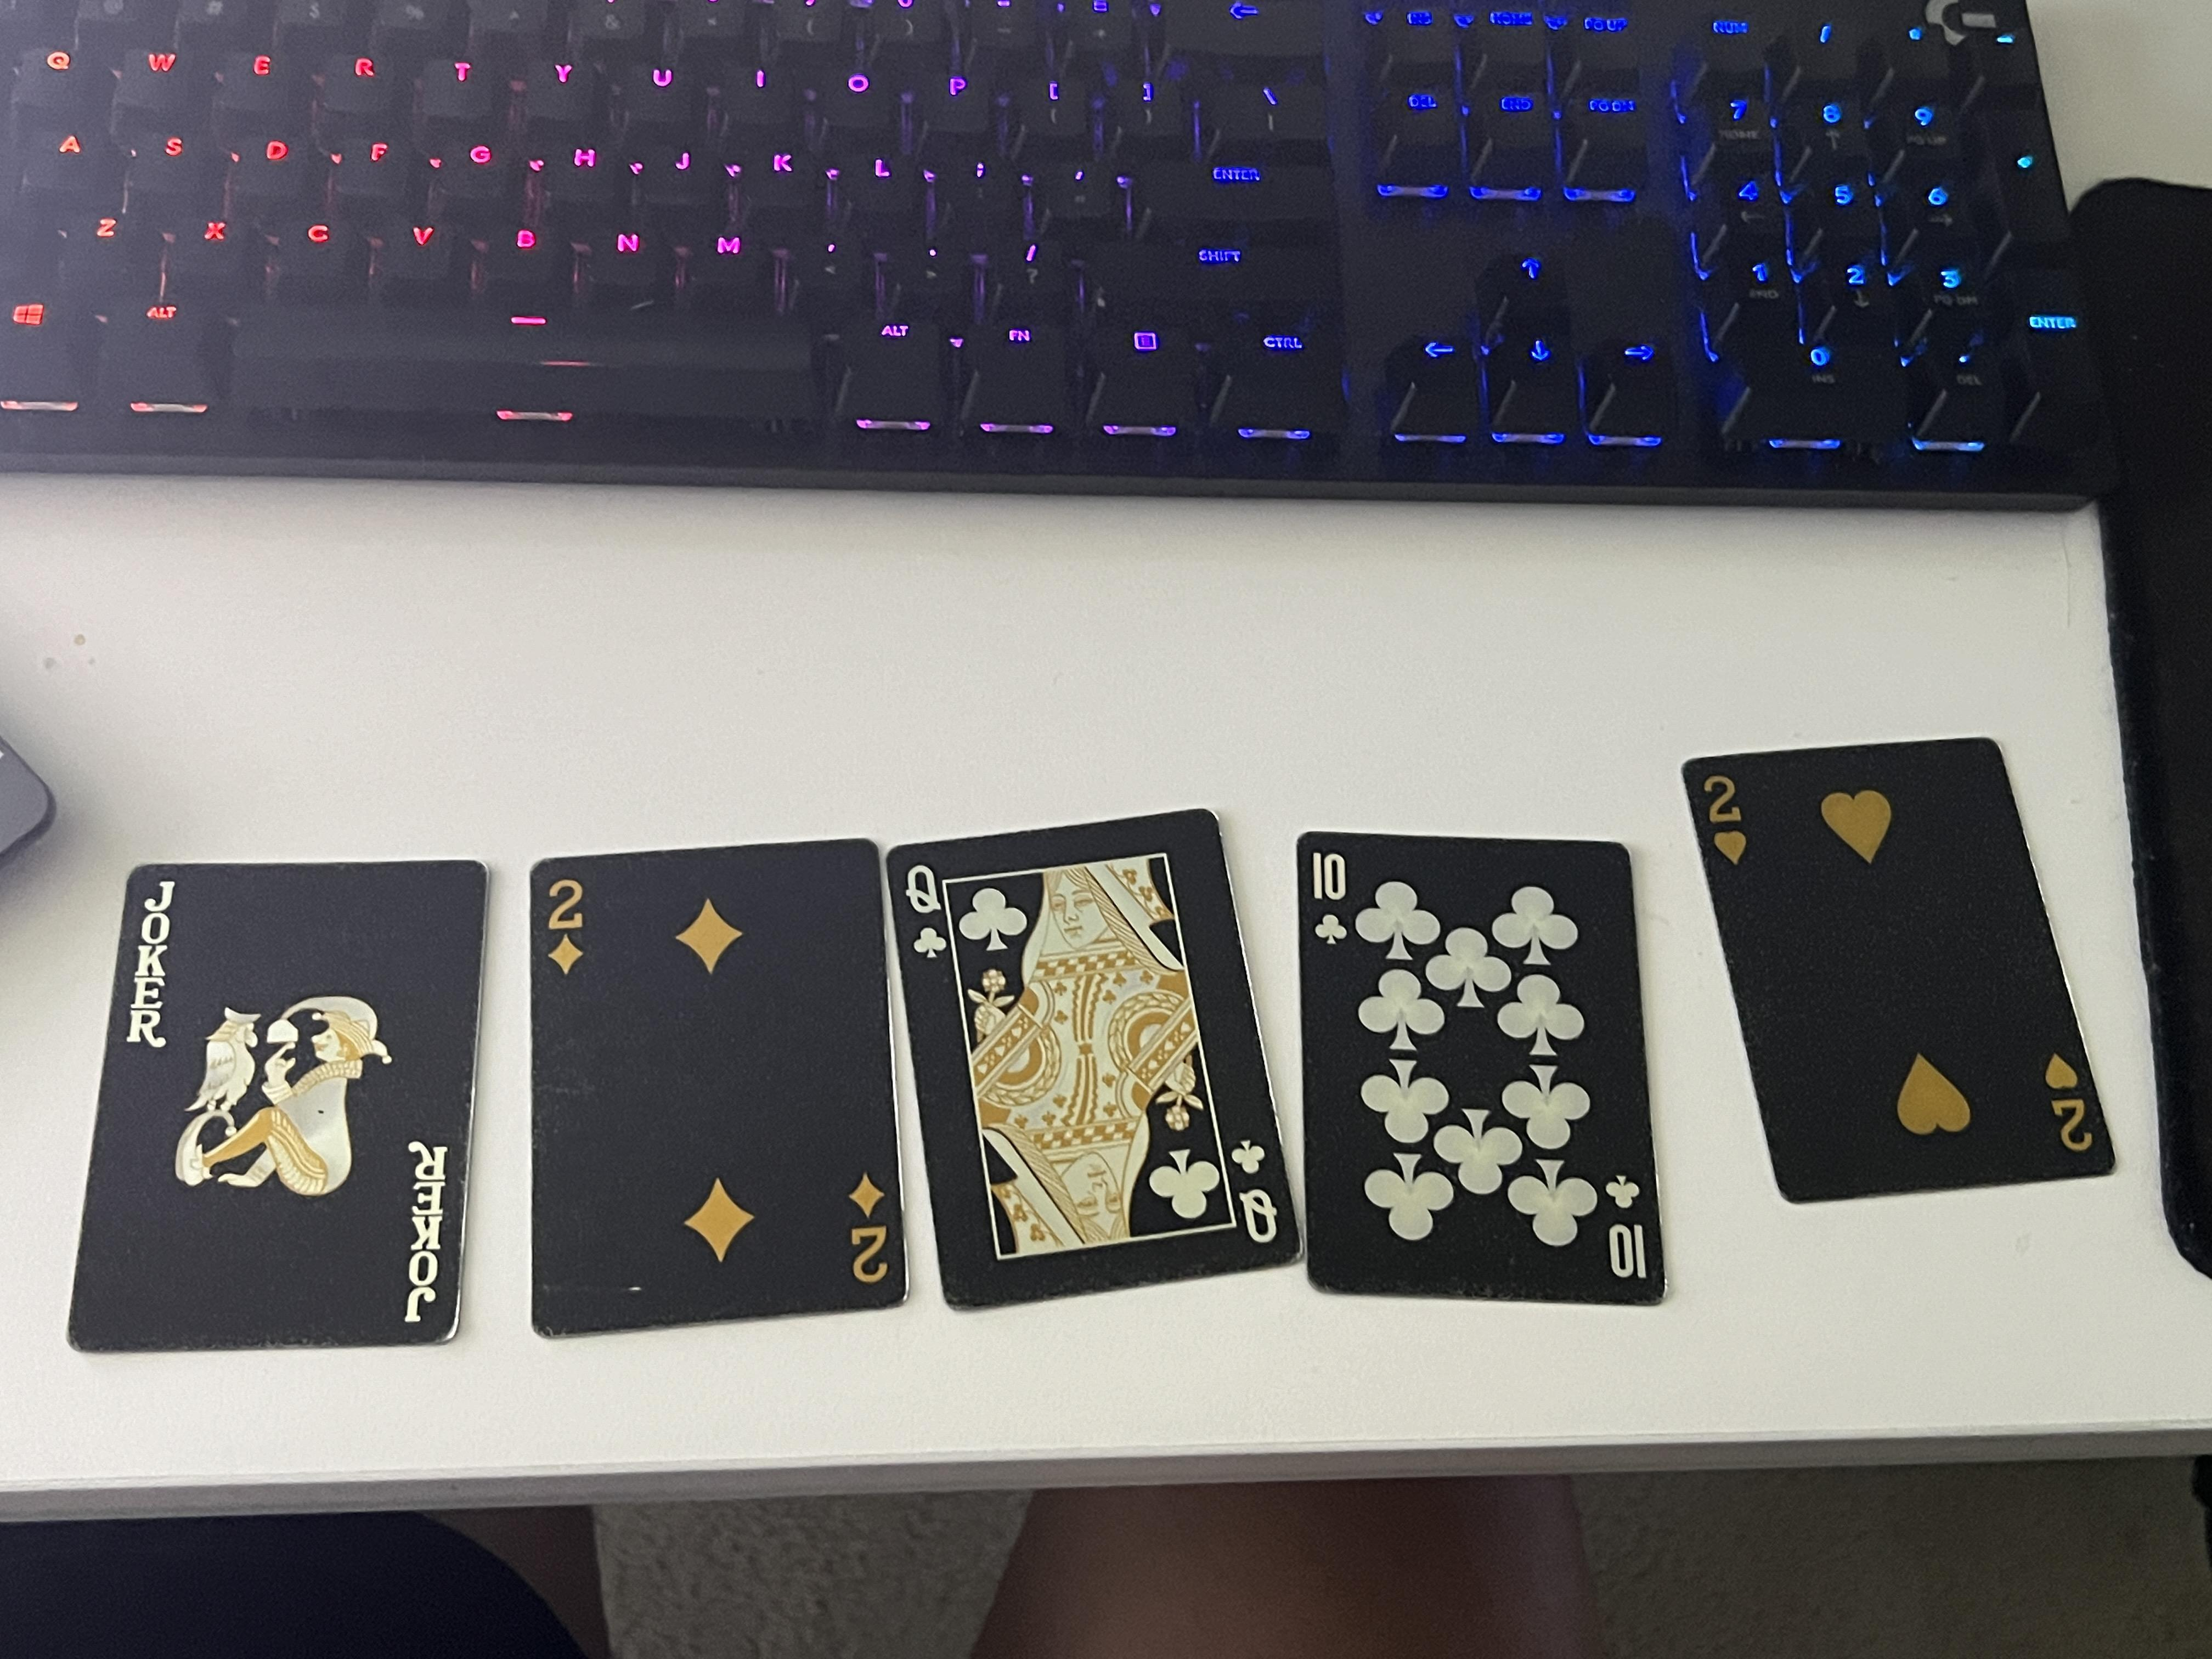10C: (496, 1203, 664, 1239), (950, 976, 1091, 1013)
2D: (876, 406, 1058, 443), (500, 627, 657, 668)
2H: (675, 1525, 816, 1572), (1063, 1271, 1186, 1315)
BLACK JOKER: (442, 289, 702, 345), (805, 89, 1049, 141)
QC: (556, 920, 709, 962), (910, 676, 1074, 711)
